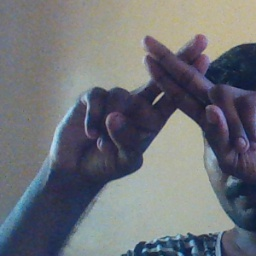F: (104, 27, 250, 158)
